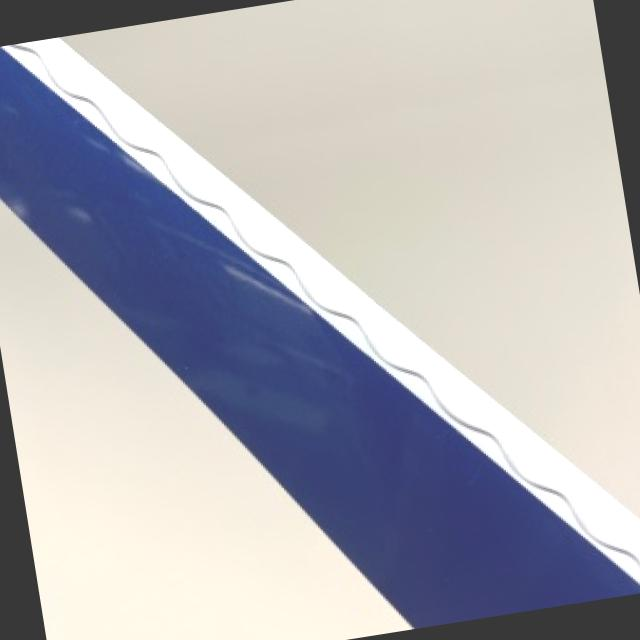healthy: (0, 38, 640, 622)
